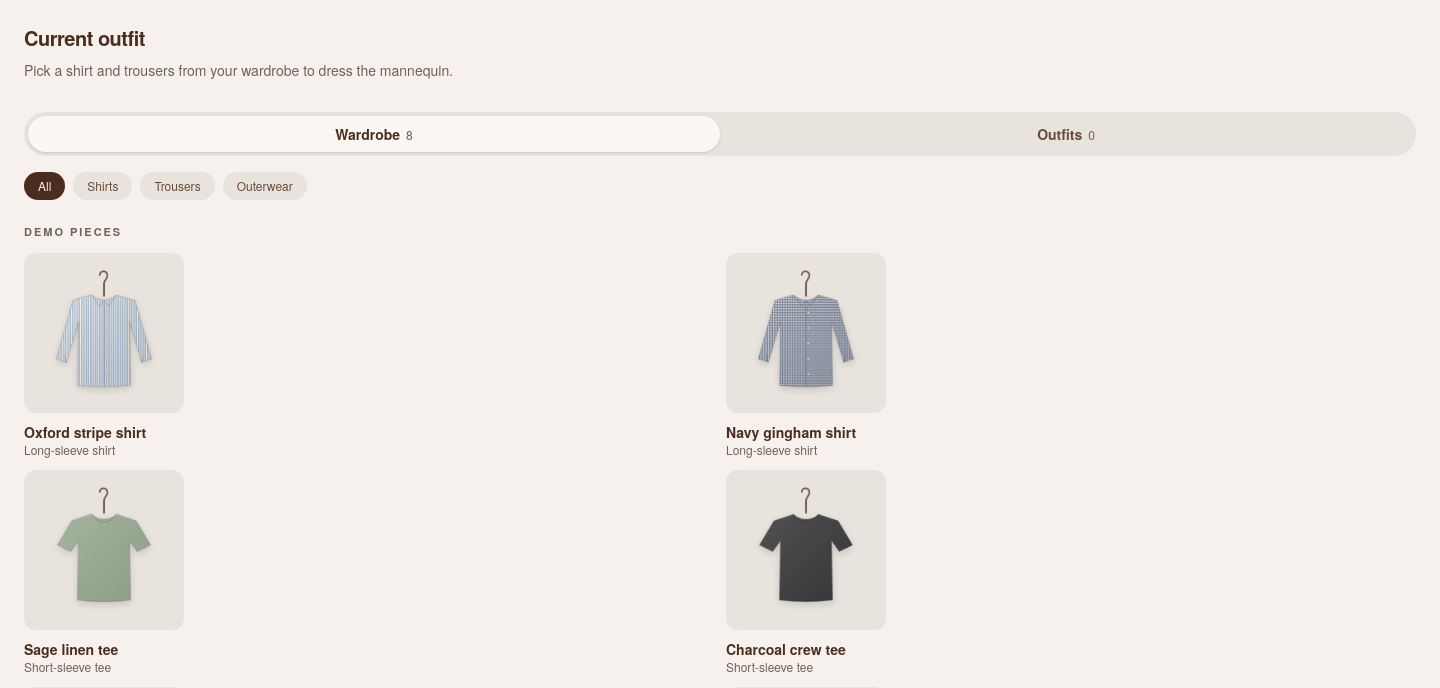
it: WardrobePanel › filters the wardrobe by category
Click the button "Trousers" at (178, 186), box [140,172,215,200]
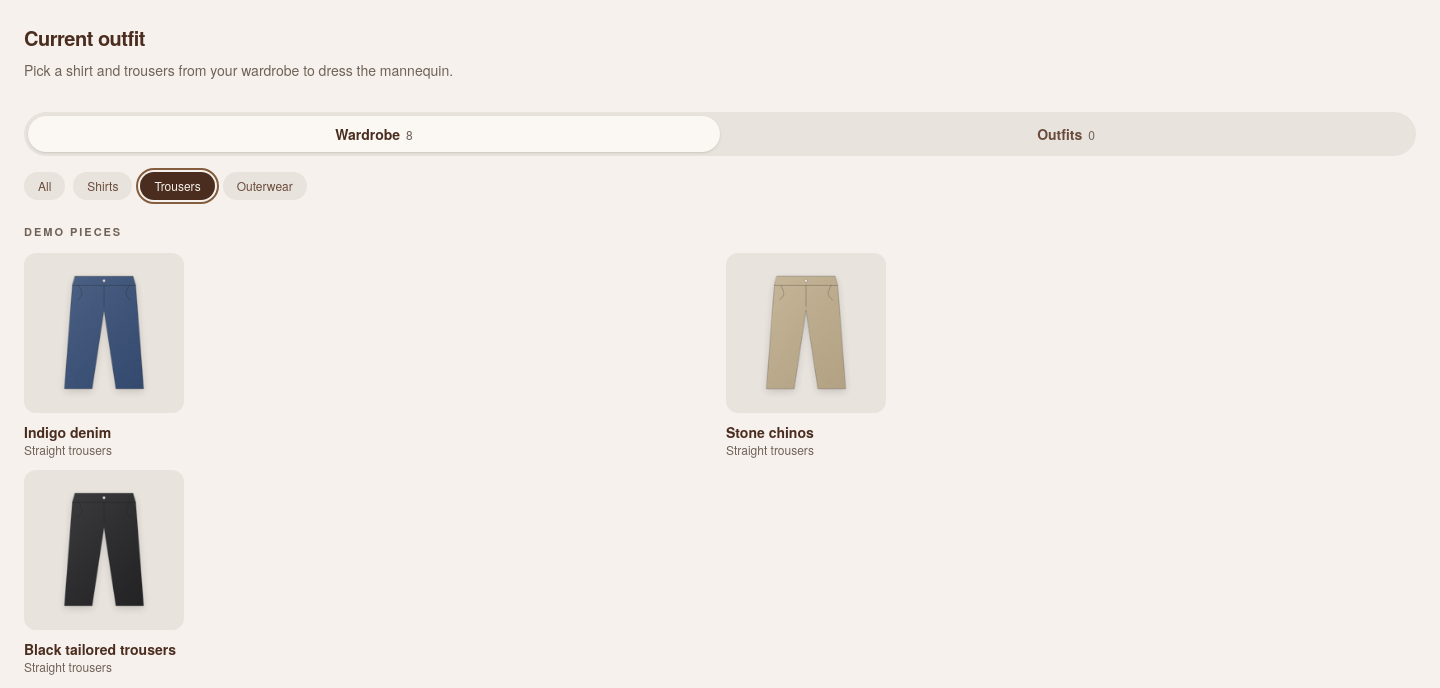
Check: the number of list items is 3, box [24,252,714,458]; [726,252,1416,458]; [24,470,714,675]
